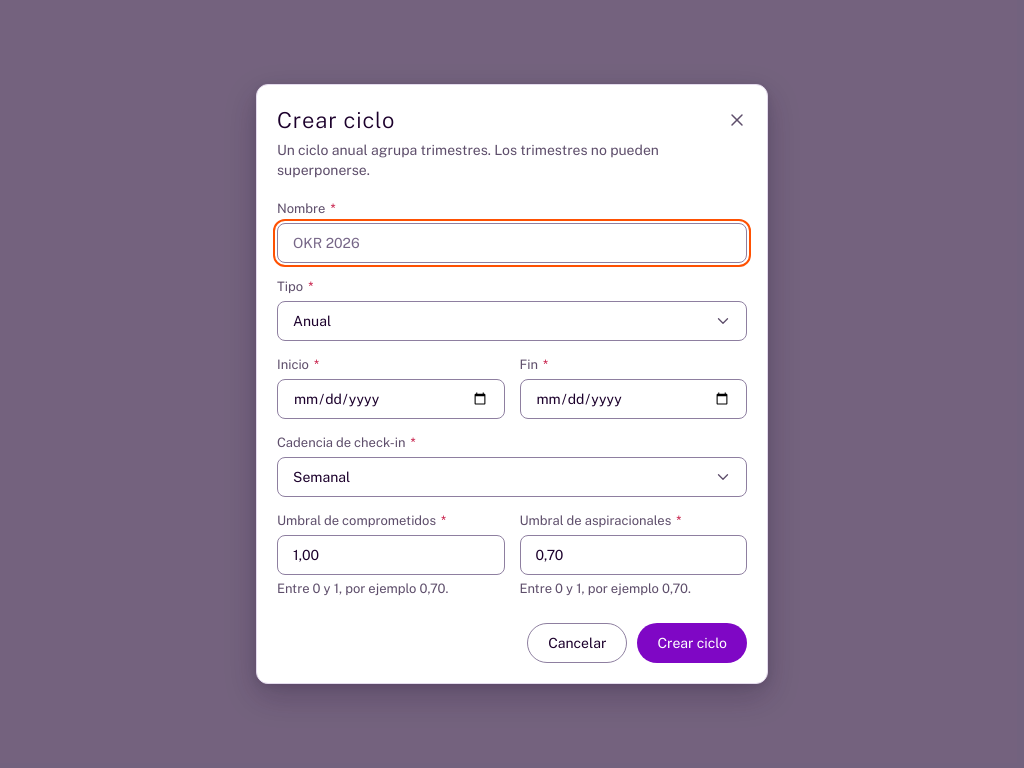
Test: CycleFormModal › tras un error del servidor el tipo elegido sigue siendo el mismo (el form se resetea)
Select "Trimestral" in the dropdown labelled "Tipo*". click: (512, 321)
box: [277,301,747,341]
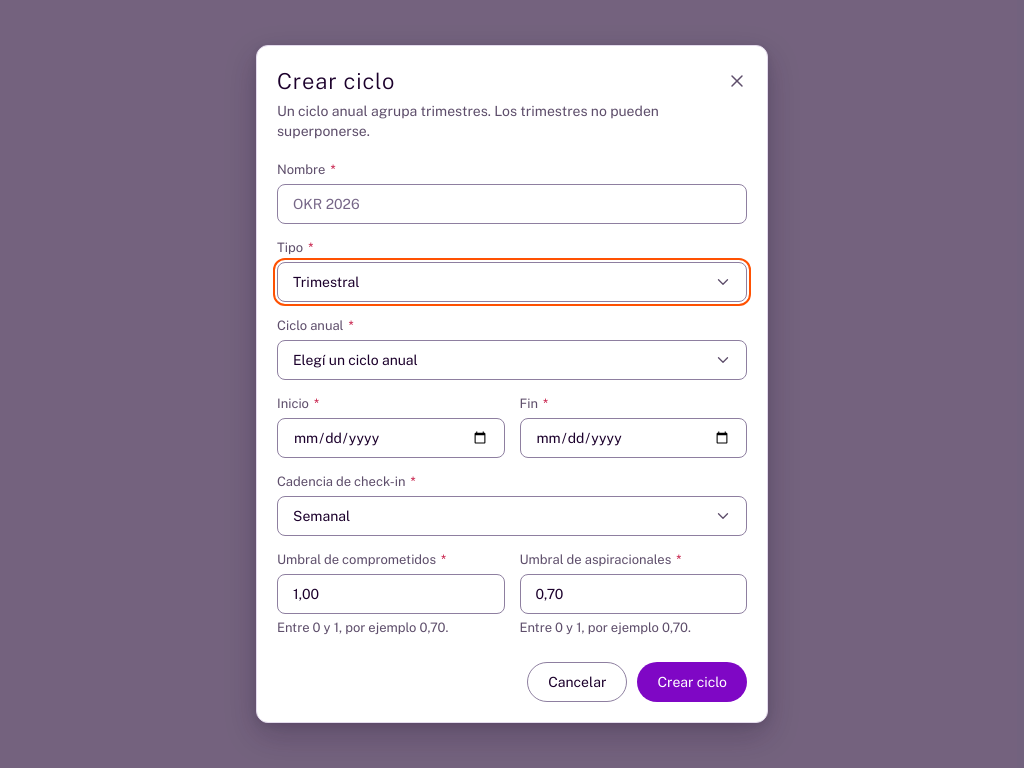
Click the button "Crear ciclo". click: (692, 682)
box: [637,662,747,702]
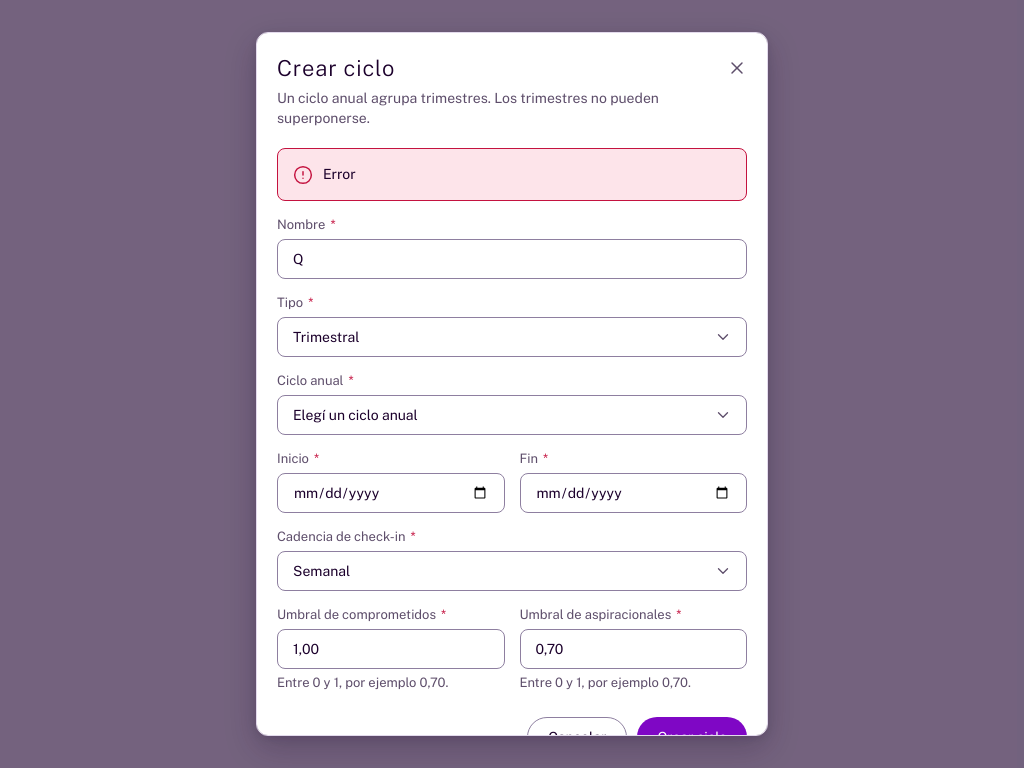
Check: the dropdown labelled "Ciclo anual*" is shown, box [277,395,747,435]
Check: the message "Error" is shown, box [277,148,747,201]
